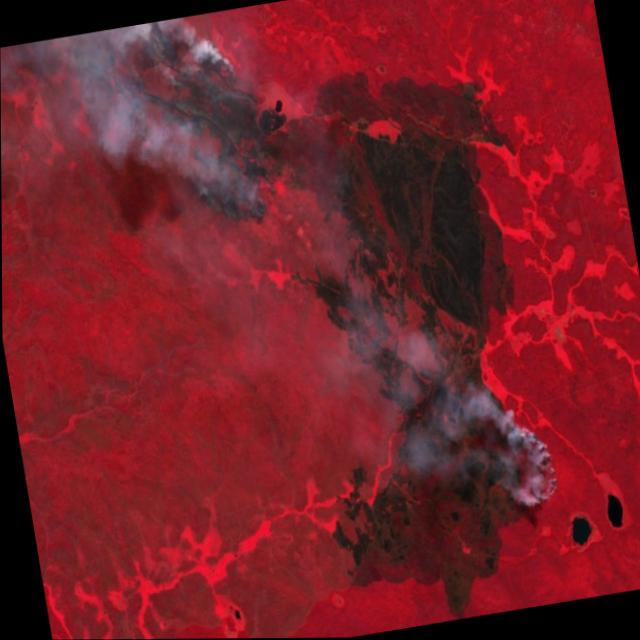fire: (52, 5, 285, 259), (487, 412, 572, 527)
